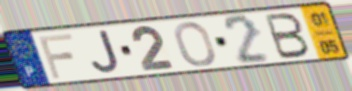2: (223, 12, 276, 67), (131, 24, 177, 74)
B: (263, 12, 312, 61)
F: (36, 32, 76, 80)
J: (90, 29, 122, 76)
O: (172, 20, 218, 68)
